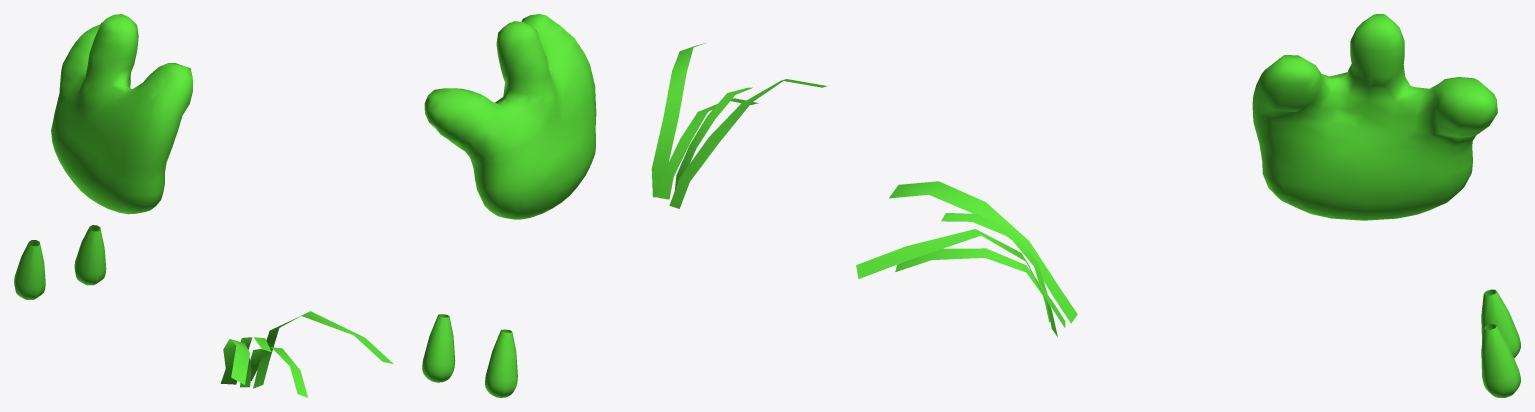
File: Ducky_Greg_Deco1.fbx
The picture shows the model from 3 angles, left to right: view 1: azimuth 30°, elevation 25°; view 2: azimuth 150°, elevation 25°; view 3: azimuth 270°, elevation 25°; orthographic projection. The views are drawn at different scales.
Parts seen in each view (by area): view 1: Mball.010, Mball.001; view 2: Mball.010, Mball.001; view 3: Mball.010, Mball.001.
Boxes of the visible parts, x1,y1,x2,y2 form: Mball.010: (14,14,192,299); Mball.001: (220,311,393,397); Mball.010: (422,14,596,397); Mball.001: (651,43,827,208); Mball.010: (1252,14,1520,397); Mball.001: (856,181,1077,336).
Bounding box in the file's own units: 53.74 × 110 × 182.
